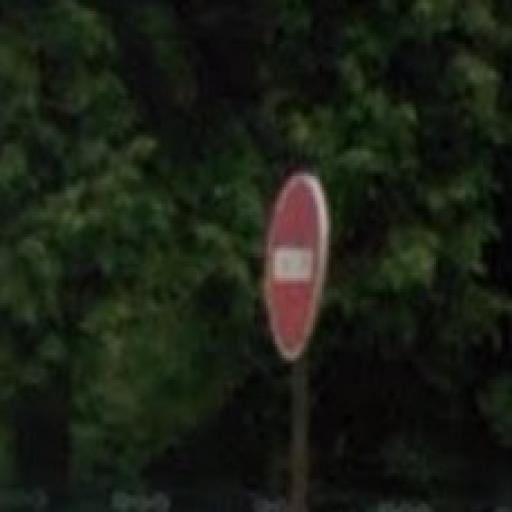traffic_sign: (262, 175, 332, 362)
